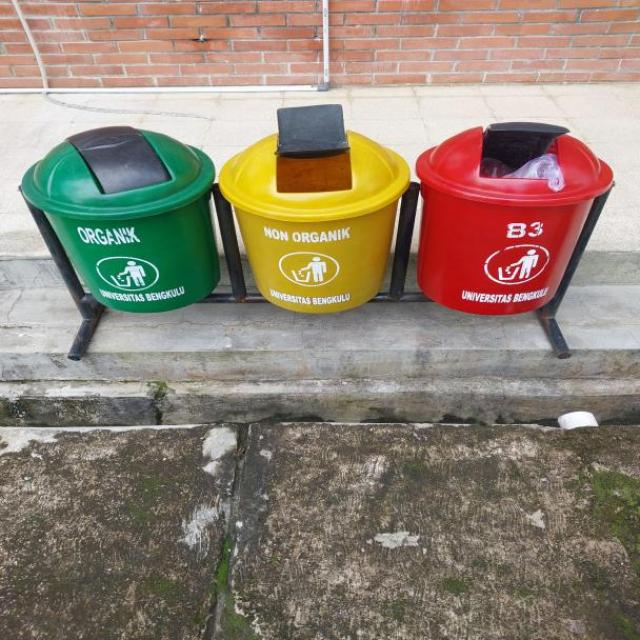dustbin ahead at: (22, 93, 616, 346)
